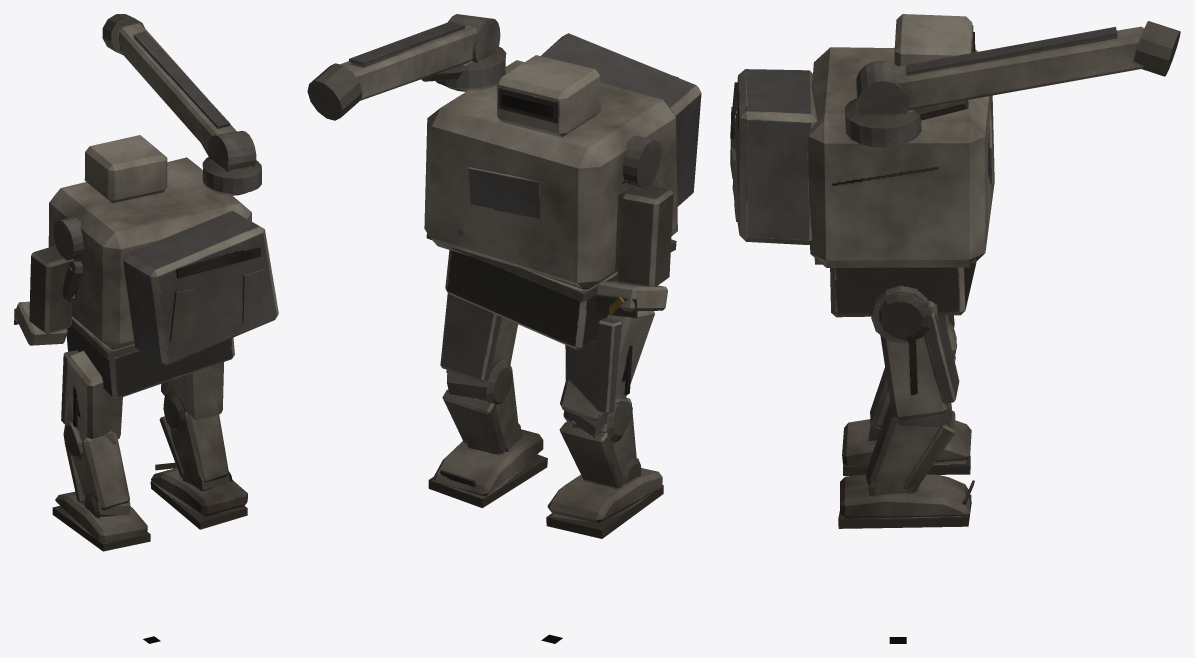
File: ord_draftsman_wreck.fbx
3 views of the same model, side by side, from view 1: azimuth 30°, elevation 25°; view 2: azimuth 150°, elevation 25°; view 3: azimuth 270°, elevation 25° (orthographic). The views are drawn at different scales.
Parts seen in each view (by area): view 1: torso_bar, nano_bar, thighL_bar, base_bar, shinL_bar, shinR_bar, footR_bar, footL_bar, thighR_bar; view 2: torso_bar, nano_bar, thighL_bar, base_bar, thighR_bar, footR_bar, footL_bar, shinL_bar, shinR_bar; view 3: torso_bar, nano_bar, thighR_bar, footR_bar, base_bar, shinR_bar, footL_bar, shinL_bar.
Boxes of the visible parts, x1=… form: torso_bar: x1=14, y1=135, x2=278, y2=365; nano_bar: x1=102, y1=14, x2=256, y2=171; thighL_bar: x1=61, y1=350, x2=122, y2=460; base_bar: x1=66, y1=325, x2=234, y2=399; shinL_bar: x1=64, y1=432, x2=130, y2=518; shinR_bar: x1=159, y1=411, x2=232, y2=491; footR_bar: x1=150, y1=462, x2=247, y2=529; footL_bar: x1=52, y1=491, x2=150, y2=551; thighR_bar: x1=161, y1=362, x2=223, y2=432; torso_bar: x1=424, y1=33, x2=701, y2=318; nano_bar: x1=307, y1=14, x2=500, y2=120; thighL_bar: x1=560, y1=311, x2=654, y2=442; base_bar: x1=445, y1=250, x2=607, y2=349; thighR_bar: x1=440, y1=293, x2=517, y2=406; footR_bar: x1=428, y1=429, x2=547, y2=507; footL_bar: x1=546, y1=468, x2=663, y2=538; shinL_bar: x1=559, y1=398, x2=641, y2=488; shinR_bar: x1=442, y1=365, x2=522, y2=454; torso_bar: x1=730, y1=14, x2=994, y2=267; nano_bar: x1=856, y1=21, x2=1180, y2=120; thighR_bar: x1=871, y1=285, x2=959, y2=427; footR_bar: x1=838, y1=474, x2=974, y2=528; base_bar: x1=830, y1=262, x2=976, y2=317; shinR_bar: x1=865, y1=401, x2=955, y2=495; footL_bar: x1=842, y1=419, x2=971, y2=475; shinL_bar: x1=868, y1=356, x2=955, y2=440.
Size of the model in its own units: 359 by 869 by 535.
Materials: 2 (2 with a texture image).
